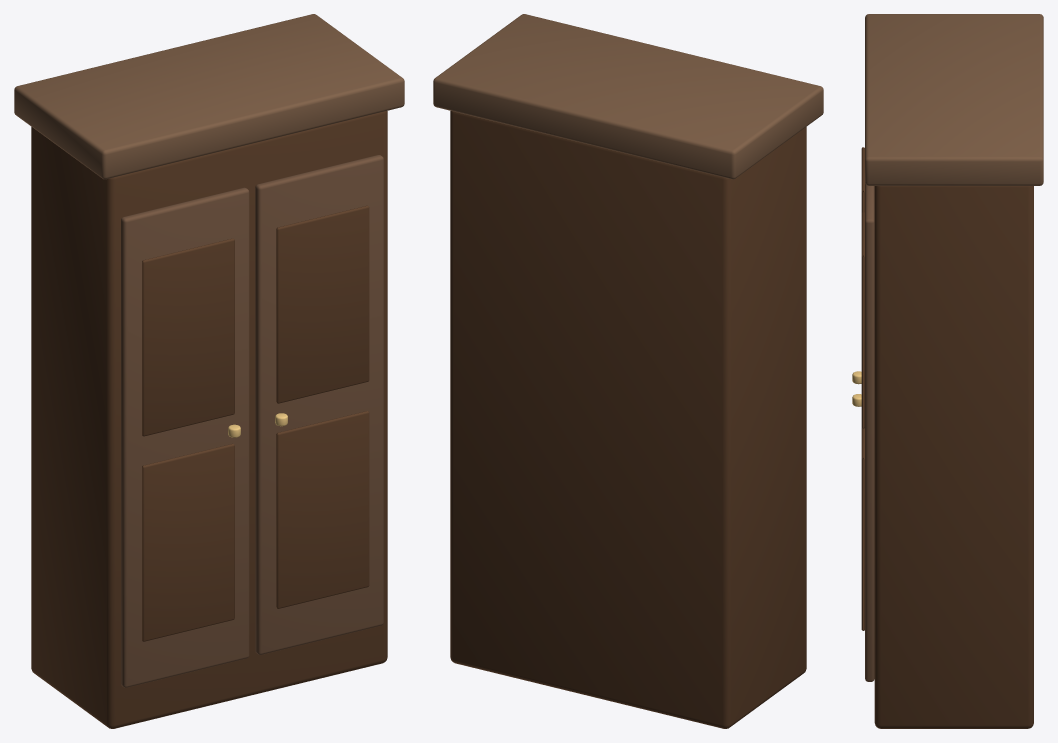
File: wardrobe.fbx
3 views of the same model, side by side, from view 1: azimuth 30°, elevation 25°; view 2: azimuth 150°, elevation 25°; view 3: azimuth 270°, elevation 25° (orthographic).
Visible parts, largest first — view 1: body, crown, door.001, door, panel.002, panel.003, panel.001, panel; view 2: body, crown; view 3: body, crown, door.001, panel.002, panel.003.
Boxes of the visible parts, x1,y1,x2,y2 form: body: (31, 111, 387, 728); crown: (14, 14, 404, 179); door.001: (255, 155, 383, 654); door: (121, 187, 249, 687); panel.002: (276, 205, 369, 403); panel.003: (276, 411, 369, 608); panel.001: (142, 443, 234, 641); panel: (142, 238, 234, 436); body: (450, 111, 806, 728); crown: (433, 14, 823, 179); body: (874, 186, 1033, 728); crown: (865, 14, 1043, 185); door.001: (865, 182, 874, 681); panel.002: (861, 212, 864, 428); panel.003: (861, 428, 864, 630).
Size of what is drawn, in the model's own units: 108 by 200 by 60.
